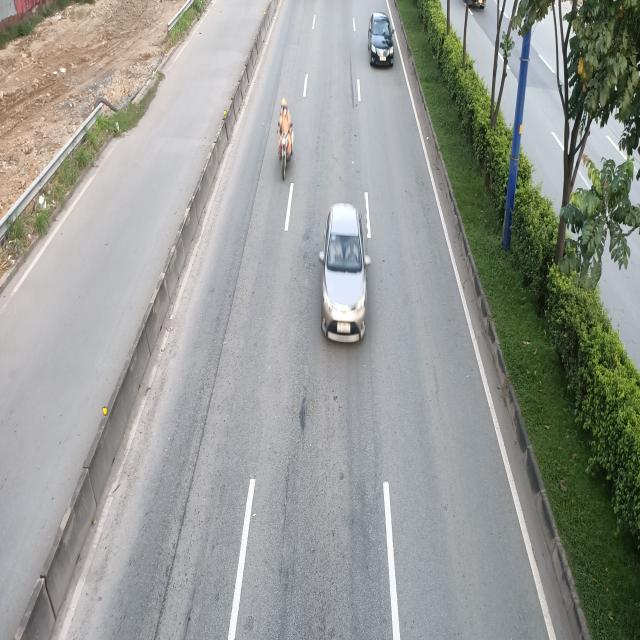car: (320, 205, 369, 345), (368, 12, 396, 68)
